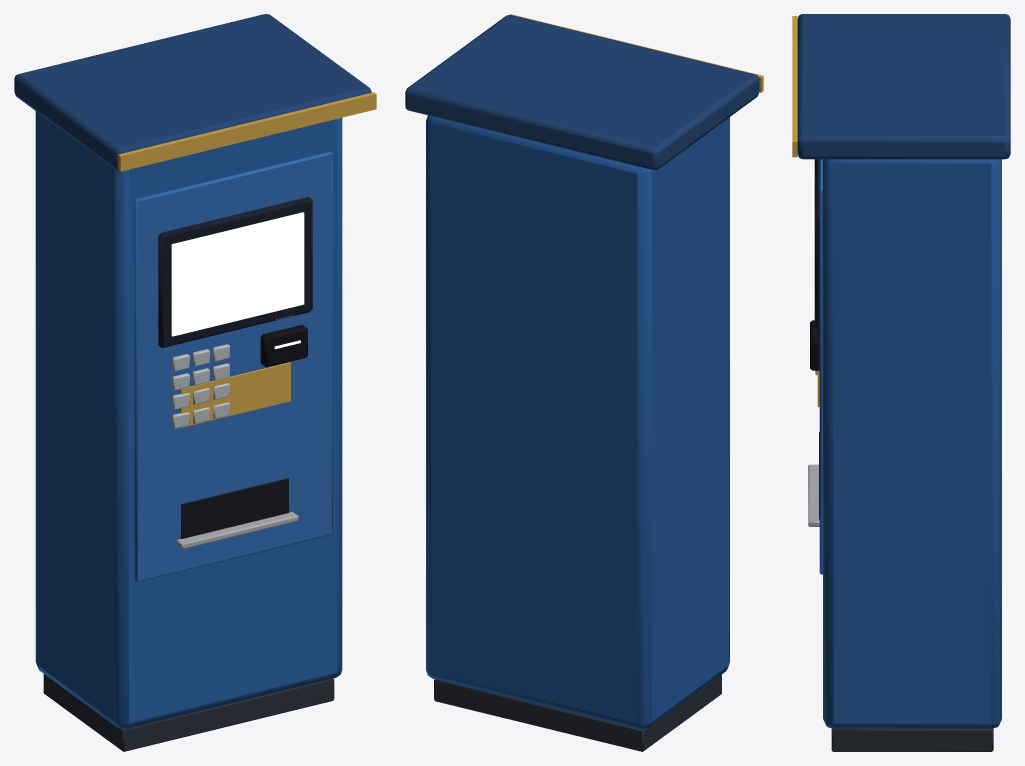
Rendered from gloryland-stop-props.glb.
3 renders of one model, left to right at view 1: azimuth 30°, elevation 25°; view 2: azimuth 150°, elevation 25°; view 3: azimuth 270°, elevation 25°, orthographic.
Visible parts, largest first — view 1: Ticket_machine; view 2: Ticket_machine; view 3: Ticket_machine.
Boxes of the visible parts, <box> form: Ticket_machine: <box>14,14,376,751</box>; Ticket_machine: <box>405,14,763,751</box>; Ticket_machine: <box>792,14,1010,751</box>.
Bounding box in the file's own units: 0.7 × 1.62 × 0.512.
